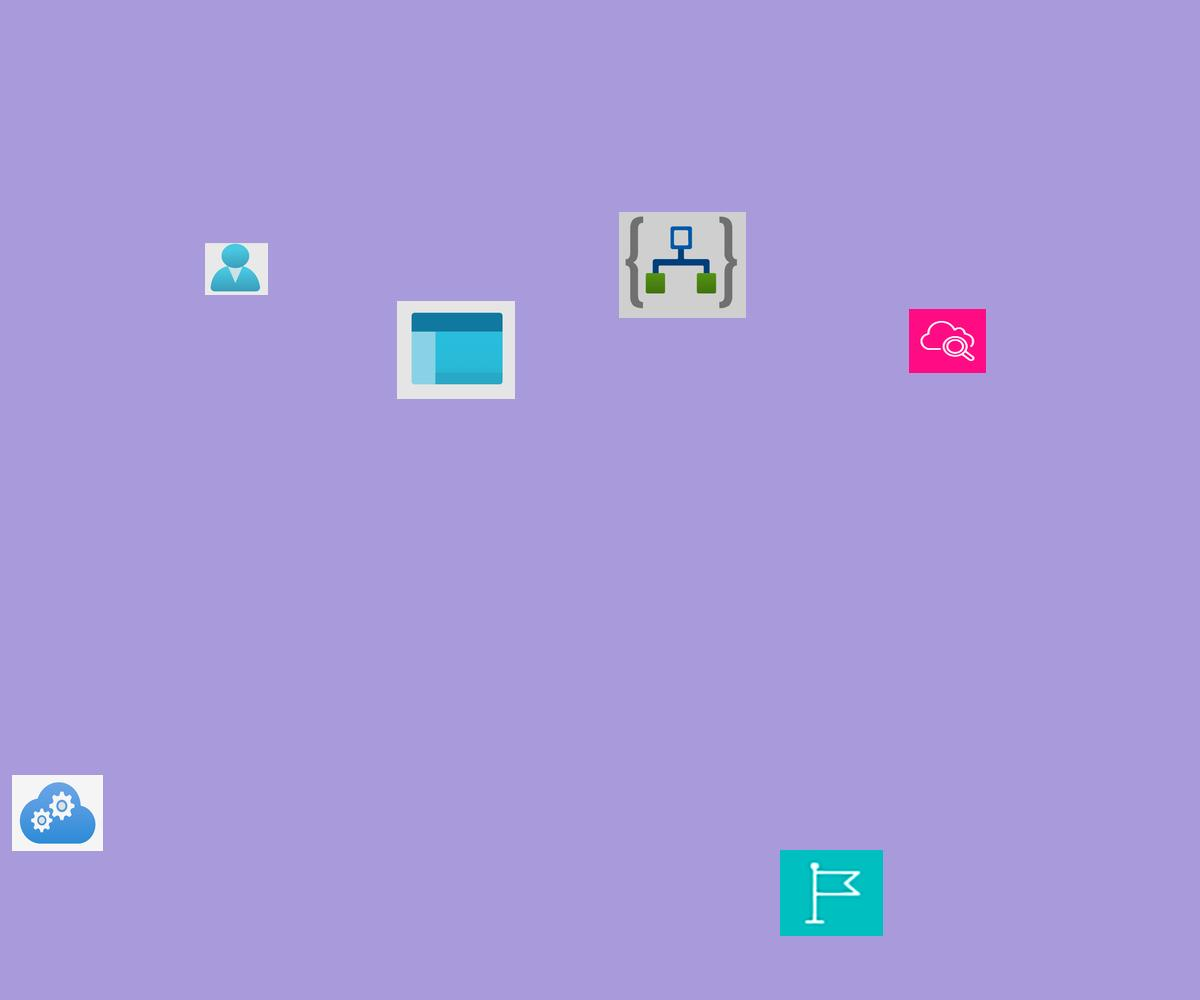AWS-CloudWatch: (909, 309, 986, 373)
AWS-Region: (780, 850, 883, 936)
Azure_cloud_services: (12, 775, 103, 851)
Azure_integration-204-Logic-Apps: (619, 212, 746, 318)
Azure_management-portal: (397, 301, 515, 399)
Azure_users: (205, 243, 268, 295)
